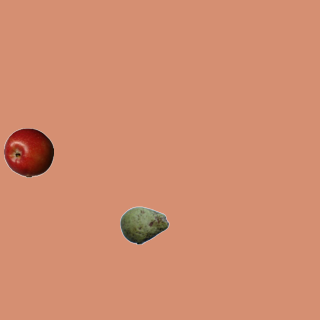Apple Braeburn: (3, 127, 53, 177)
Pear Stone: (119, 200, 169, 250)
